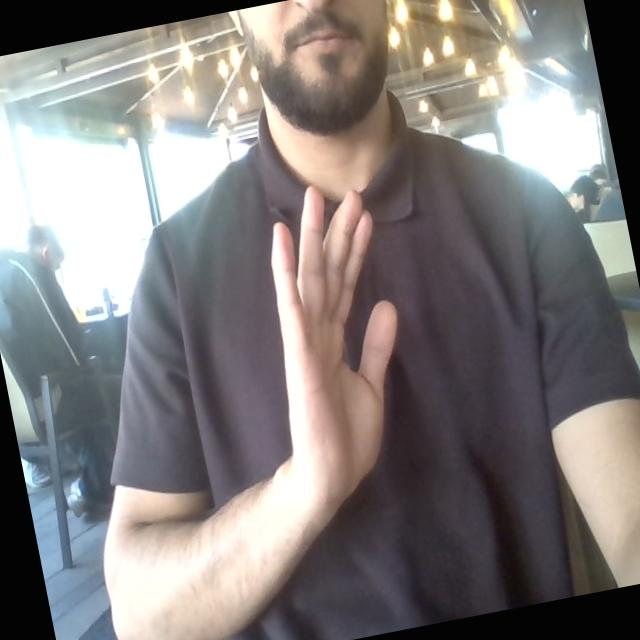Hand: (272, 187, 397, 510)
